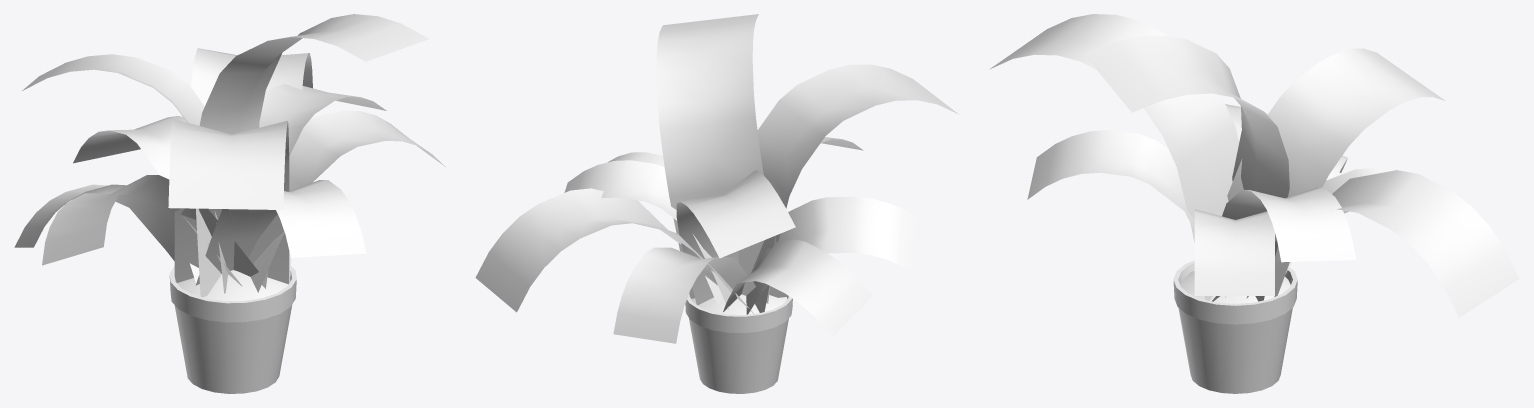
Rendered from c30lumexfif4-eb_house_plant_01.glb.
3 renders of one model, left to right at view 1: azimuth 30°, elevation 25°; view 2: azimuth 150°, elevation 25°; view 3: azimuth 270°, elevation 25°, orthographic. The views are drawn at different scales.
Visible parts, largest first — view 1: polySurface8; view 2: polySurface8; view 3: polySurface8.
Boxes of the visible parts, x1,y1,x2,y2 form: polySurface8: (14, 14, 445, 393); polySurface8: (475, 14, 957, 393); polySurface8: (989, 14, 1519, 393).
Bounding box in the file's own units: 0.3959 × 0.3488 × 0.475.
1 material, 1 textured.
